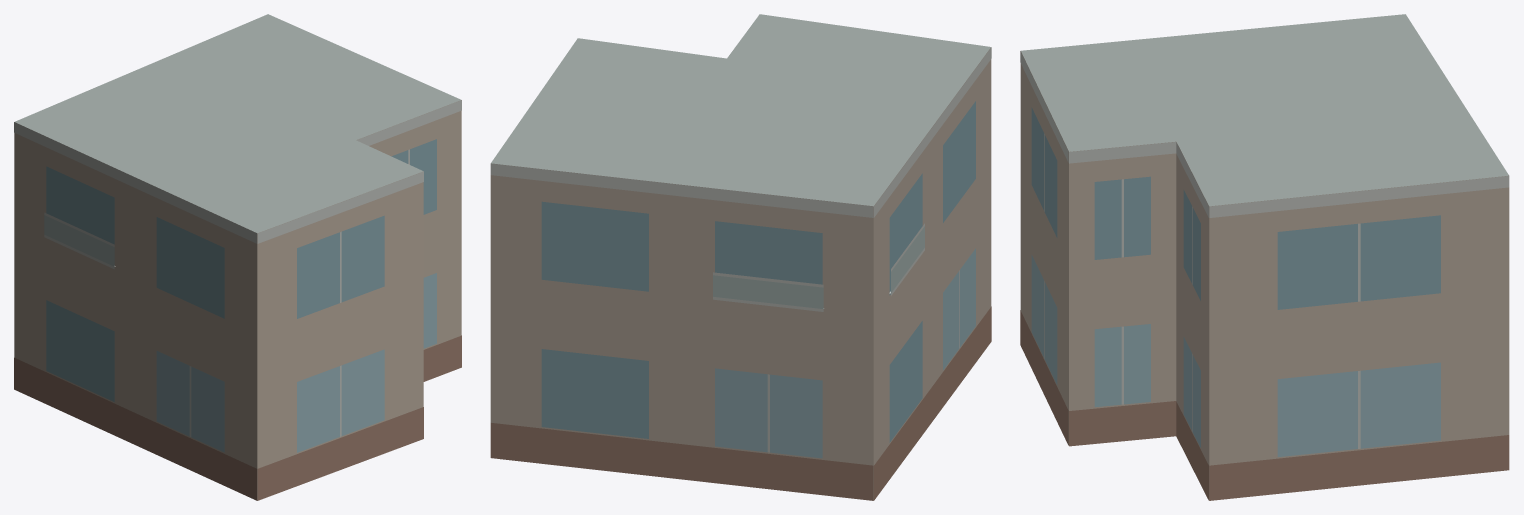
File: survey-upis-32735932.glb
3 views of the same model, side by side, from view 1: azimuth 30°, elevation 25°; view 2: azimuth 150°, elevation 25°; view 3: azimuth 270°, elevation 25° (orthographic). The views are drawn at different scales.
Parts seen in each view (by area): view 1: survey-upis-32735932.tmp; view 2: survey-upis-32735932.tmp; view 3: survey-upis-32735932.tmp.
Boxes of the visible parts, x1,y1,x2,y2 form: survey-upis-32735932.tmp: [14, 14, 461, 500]; survey-upis-32735932.tmp: [490, 14, 991, 500]; survey-upis-32735932.tmp: [1020, 14, 1509, 500].
Bounding box in the file's own units: 8.56 × 6.1 × 9.19.
